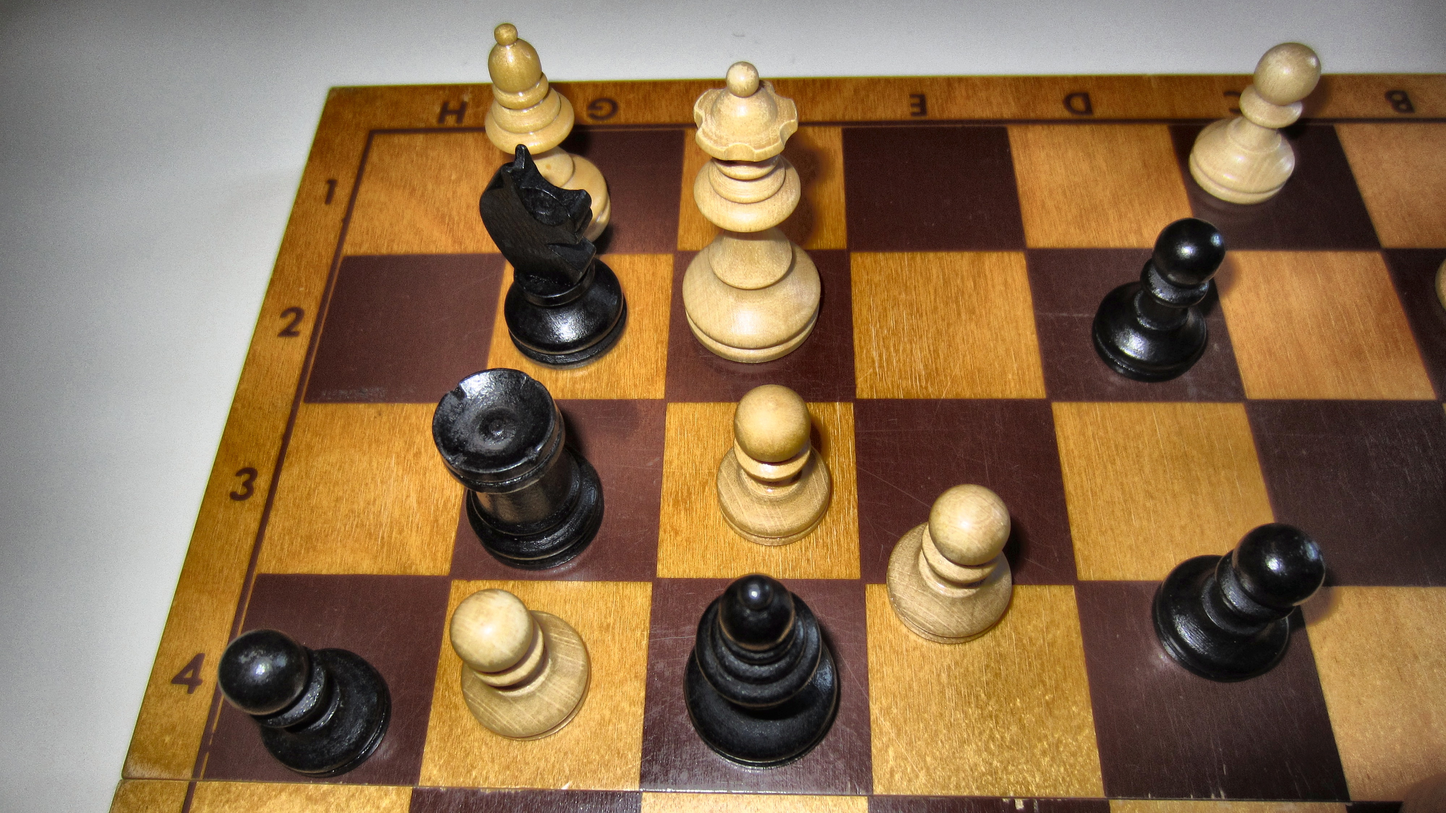black-bishop: (680, 572, 840, 770)
black-knight: (475, 144, 628, 370)
black-pawn: (1150, 520, 1328, 684), (214, 628, 393, 777), (1091, 216, 1227, 383)
black-rook: (431, 367, 607, 571)
white-bishop: (480, 22, 613, 248)
white-pawn: (1187, 41, 1322, 205), (449, 588, 592, 742), (885, 482, 1014, 646), (714, 383, 832, 546)
white-queen: (680, 58, 824, 366)
